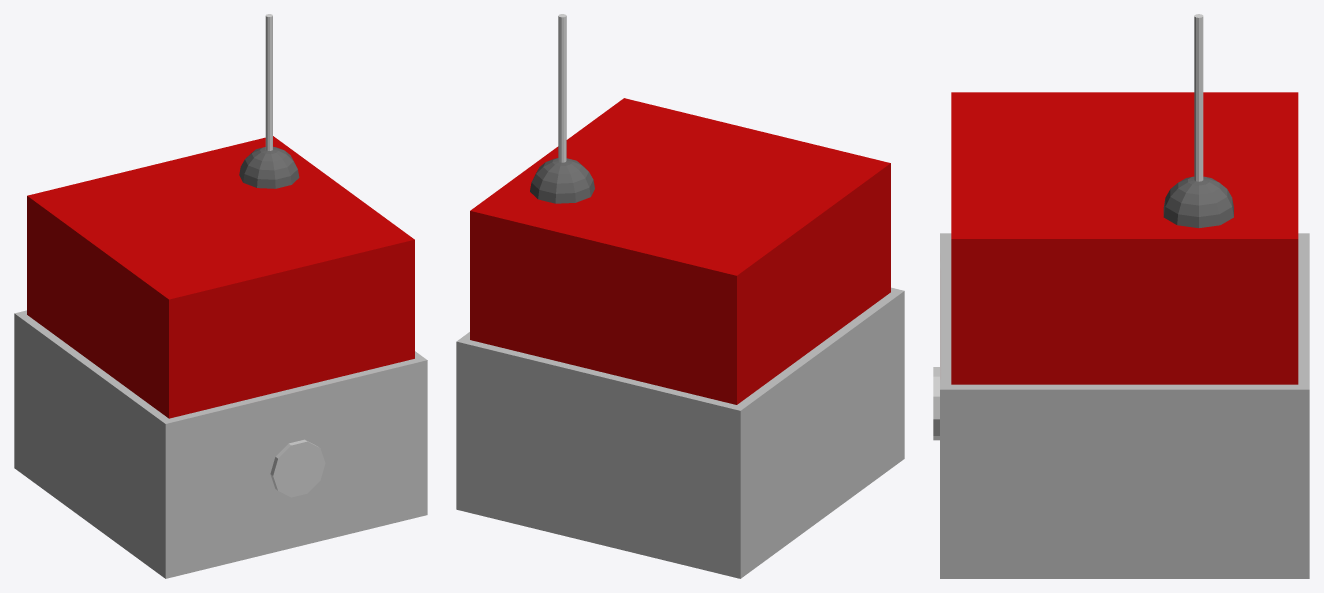
File: repairBox.fbx
The picture shows the model from 3 angles, left to right: view 1: azimuth 30°, elevation 25°; view 2: azimuth 150°, elevation 25°; view 3: azimuth 270°, elevation 25°; orthographic projection. The views are drawn at different scales.
Visible parts, largest first — view 1: box_GEO, button_GEO, cap_GEO, antenna_GEO; view 2: box_GEO, cap_GEO, antenna_GEO; view 3: box_GEO, cap_GEO, antenna_GEO, button_GEO.
Part boxes in pixels (bbox=[...]): box_GEO: bbox=[14, 136, 427, 578]; button_GEO: bbox=[270, 439, 325, 497]; cap_GEO: bbox=[239, 146, 299, 188]; antenna_GEO: bbox=[265, 14, 272, 150]; box_GEO: bbox=[456, 98, 904, 578]; cap_GEO: bbox=[530, 158, 594, 203]; antenna_GEO: bbox=[558, 14, 566, 162]; box_GEO: bbox=[940, 92, 1309, 578]; cap_GEO: bbox=[1163, 176, 1233, 228]; antenna_GEO: bbox=[1194, 14, 1203, 181]; button_GEO: bbox=[933, 367, 939, 440].
Size of the model in its own units: 10 by 15.87 by 10.18.
4 materials, 1 textured.
